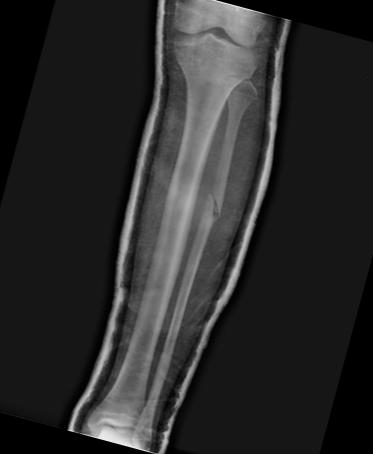fractured: (204, 185, 223, 225)
